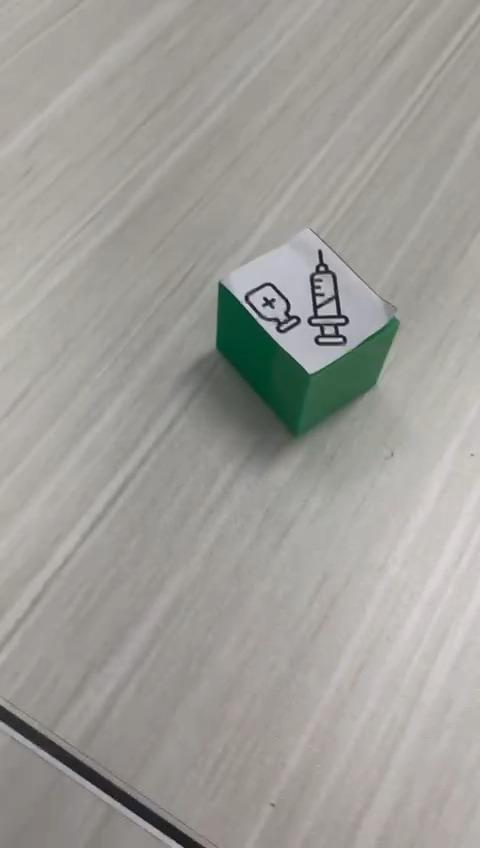antiseptic cream: (214, 225, 400, 437)
